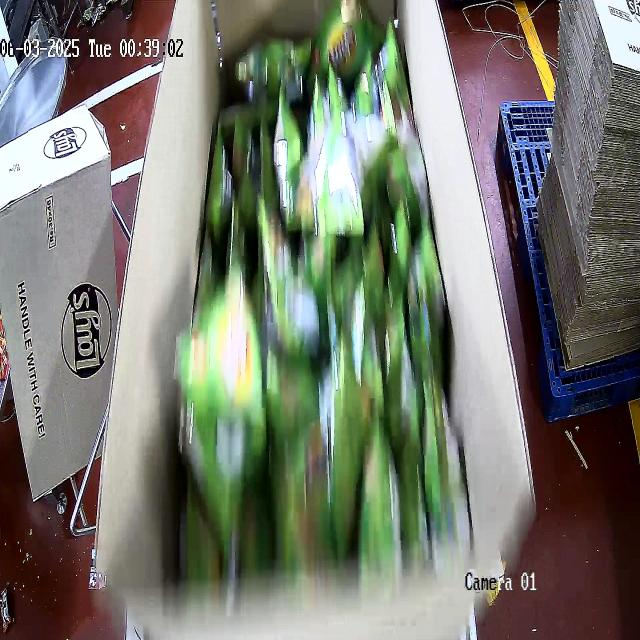YOGURT_HERB: (172, 12, 470, 629)
